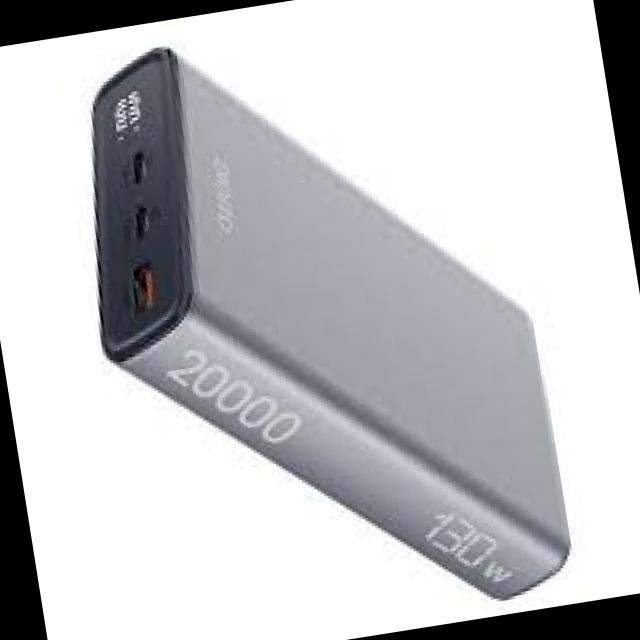power_bank: (43, 0, 582, 640)
